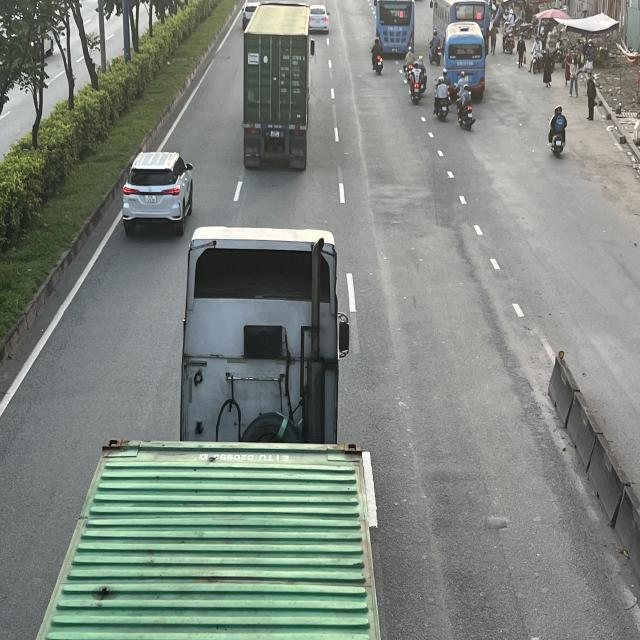car: (122, 152, 194, 238), (308, 5, 330, 34)
coach: (444, 23, 485, 96), (371, 0, 414, 58)
container: (33, 226, 381, 640), (243, 3, 315, 172)
